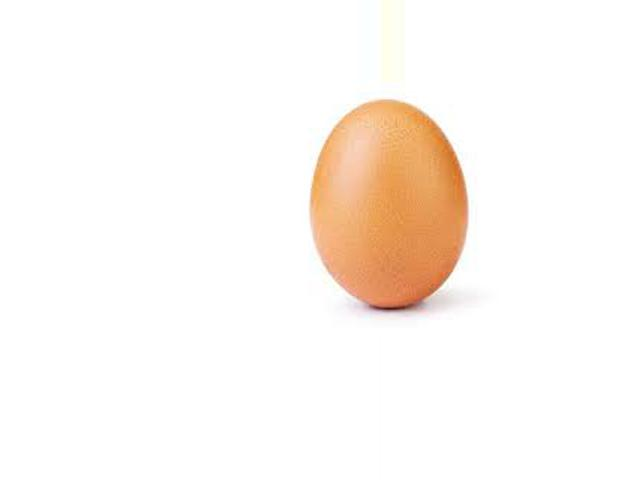egg: (312, 100, 466, 308)
